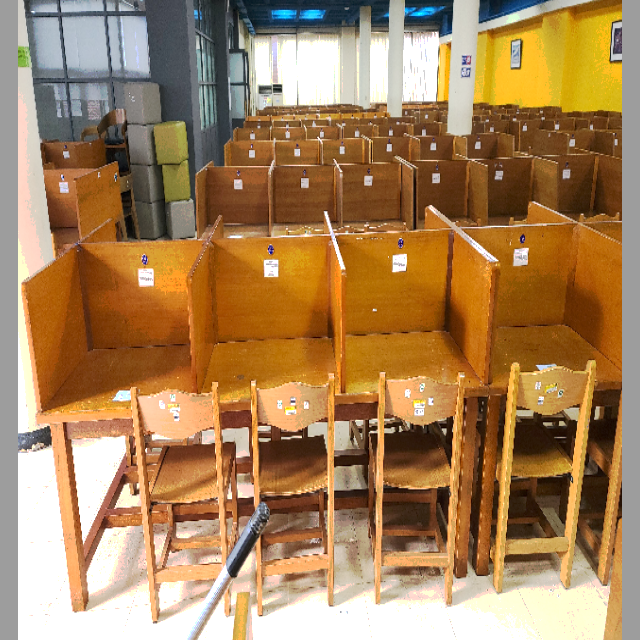empty: (31, 258, 195, 503), (347, 235, 487, 486), (199, 252, 343, 490)
